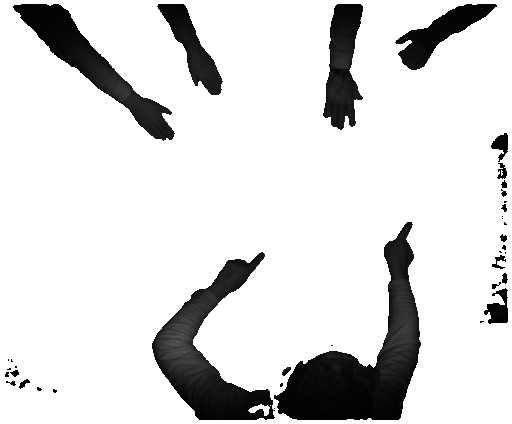hand: (215, 248, 271, 299), (320, 78, 367, 135), (127, 99, 175, 143), (392, 29, 438, 71), (384, 216, 415, 275), (184, 50, 223, 95)
